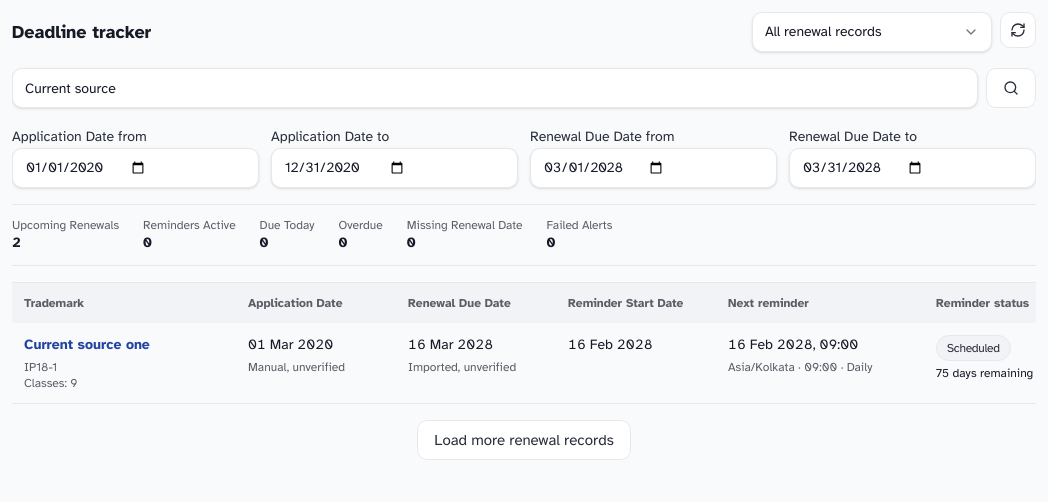
IP15-018 tracker filters and continuation › keeps filter scope on continuation and resets to the first page after a date change
The image size is (1048, 502).
Click the button "Load more renewal records": (524, 440) [417,420,631,460]
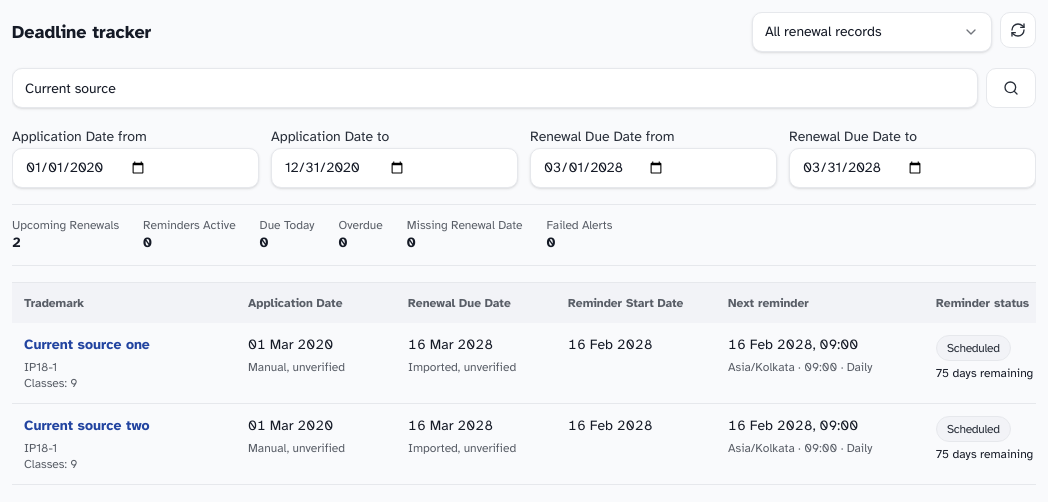
Now the link "Current source two" is shown, box [24,417,150,434]
In the date field labelled "Renewal Due Date to": (912, 168) [789,148,1036,188], type "2028-04-30"
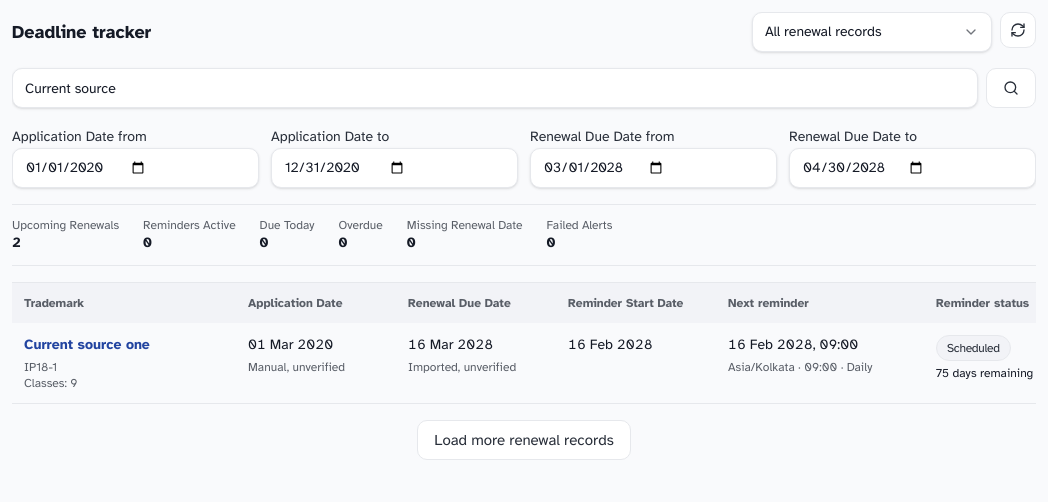
Now the link "Current source two" is gone
